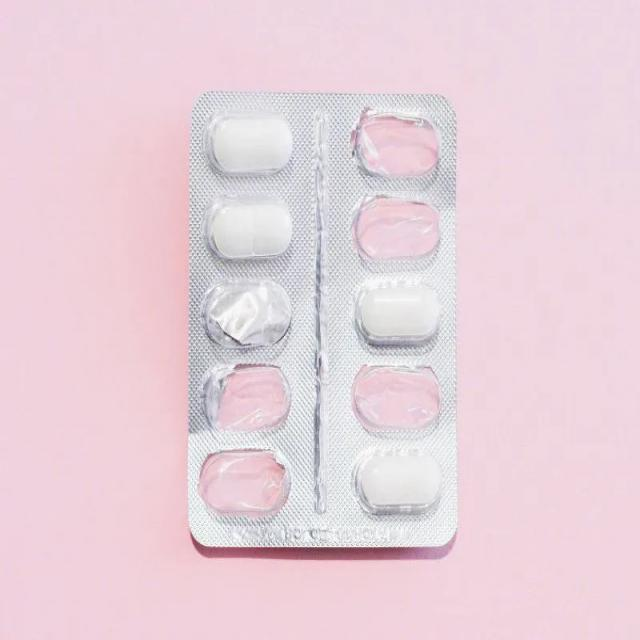Empty: (198, 447, 293, 525), (201, 276, 296, 352), (351, 106, 441, 186), (355, 190, 445, 270), (200, 364, 292, 436), (352, 364, 442, 432)
Pill: (203, 99, 294, 182), (205, 188, 296, 267), (356, 276, 443, 348), (359, 444, 441, 517)
